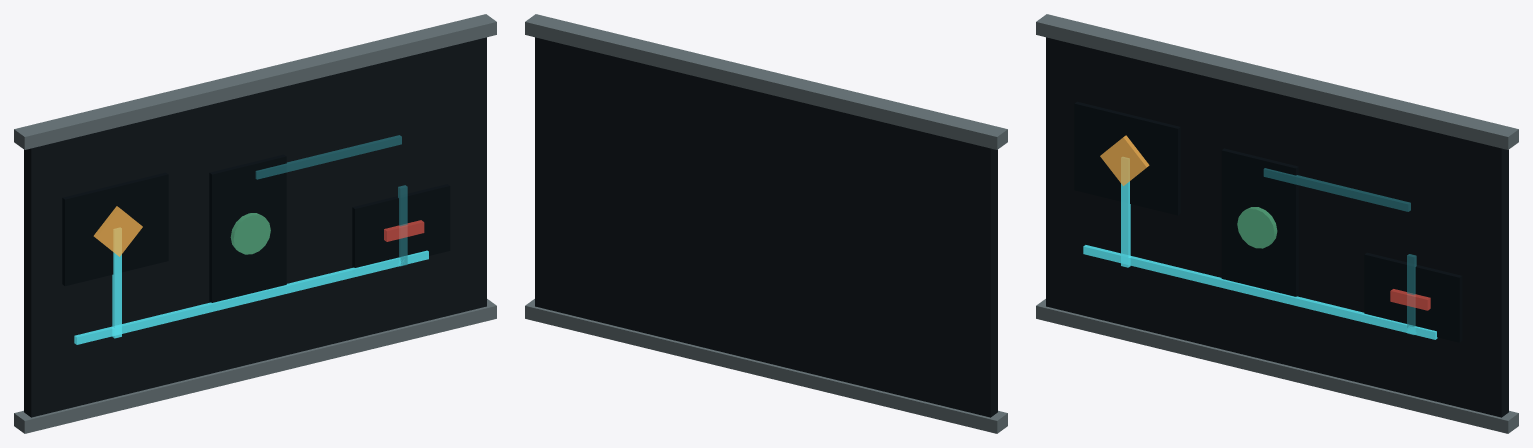
The model's file is hp_room_cyber_mural_circuit_city.glb.
3 views of the same model, side by side, from view 1: azimuth 30°, elevation 25°; view 2: azimuth 150°, elevation 25°; view 3: azimuth 330°, elevation 25° (orthographic).
Visible parts, largest first — view 1: mural_backing, mural_frame_top, district_b, district_a, mural_frame_bottom, district_c, trace_main, trace_cross, glyph_source, glyph_node, trace_rise_a, trace_rise_b (+1 smaller); view 2: mural_backing, mural_frame_top, mural_frame_bottom; view 3: mural_backing, mural_frame_top, district_b, district_a, mural_frame_bottom, district_c, trace_main, trace_cross, glyph_source, glyph_node, trace_rise_a, trace_rise_b (+1 smaller).
Boxes of the visible parts, <box> form: mural_backing: <box>24,37,486,417</box>; mural_frame_top: <box>14,14,496,149</box>; district_b: <box>209,154,286,304</box>; district_a: <box>62,172,168,286</box>; mural_frame_bottom: <box>14,299,496,433</box>; district_c: <box>352,184,450,268</box>; trace_main: <box>74,250,428,344</box>; trace_cross: <box>255,135,401,179</box>; glyph_source: <box>93,206,142,256</box>; glyph_node: <box>230,213,270,254</box>; trace_rise_a: <box>112,228,121,338</box>; trace_rise_b: <box>398,185,407,266</box>; mural_backing: <box>535,37,997,417</box>; mural_frame_top: <box>525,14,1007,149</box>; mural_frame_bottom: <box>525,299,1007,433</box>; mural_backing: <box>1046,37,1508,417</box>; mural_frame_top: <box>1036,14,1518,149</box>; district_b: <box>1221,148,1298,300</box>; district_a: <box>1074,101,1180,215</box>; mural_frame_bottom: <box>1036,299,1518,433</box>; district_c: <box>1364,252,1462,342</box>; trace_main: <box>1083,245,1437,339</box>; trace_cross: <box>1263,168,1410,211</box>; glyph_source: <box>1100,135,1149,185</box>; glyph_node: <box>1237,207,1277,248</box>; trace_rise_a: <box>1121,157,1130,267</box>; trace_rise_b: <box>1407,254,1416,334</box>.
Size of the model in its own units: 2.28 by 1.37 by 0.122.
